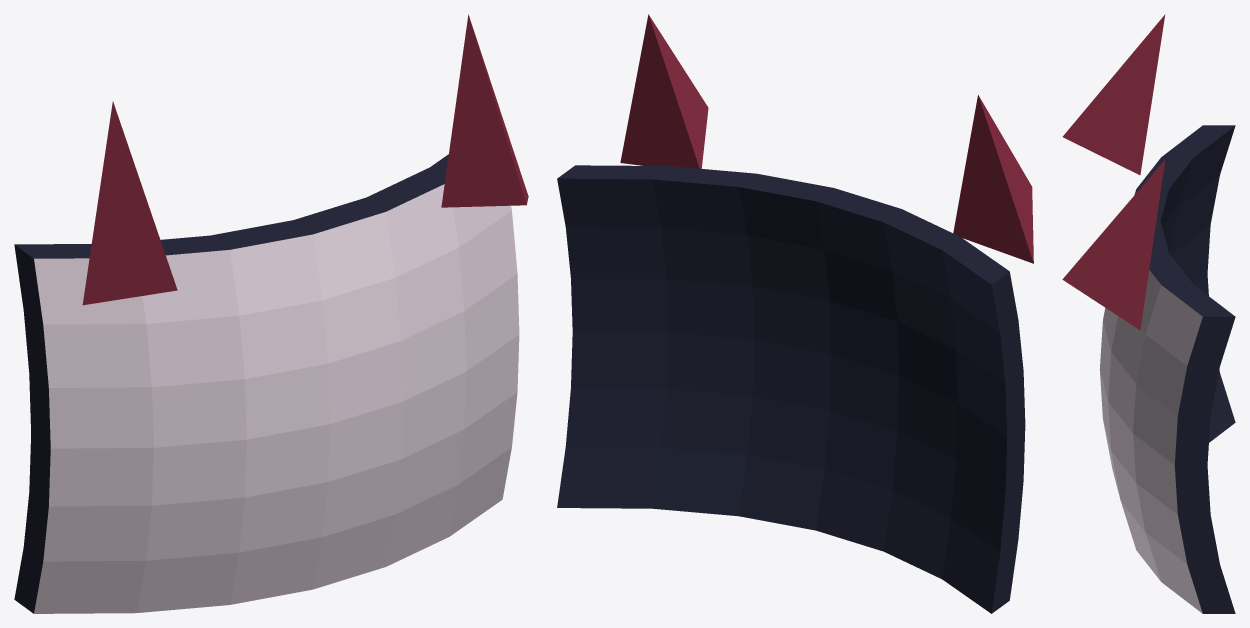
Rendered from KGB_MASK_Kitsune_Wearable_DRAFT_v01.obj.
3 renders of one model, left to right at view 1: azimuth 30°, elevation 25°; view 2: azimuth 150°, elevation 25°; view 3: azimuth 270°, elevation 25°, orthographic. The views are drawn at different scales.
Visible parts, largest first — view 1: KGB_MASK_Kitsune_Wearable_DRAFT_v01; view 2: KGB_MASK_Kitsune_Wearable_DRAFT_v01; view 3: KGB_MASK_Kitsune_Wearable_DRAFT_v01.
Boxes of the visible parts, <box> form: KGB_MASK_Kitsune_Wearable_DRAFT_v01: <box>14,14,528,613</box>; KGB_MASK_Kitsune_Wearable_DRAFT_v01: <box>557,14,1033,613</box>; KGB_MASK_Kitsune_Wearable_DRAFT_v01: <box>1062,14,1235,613</box>.
Bounding box in the file's own units: 1.45 × 1.52 × 0.555.
